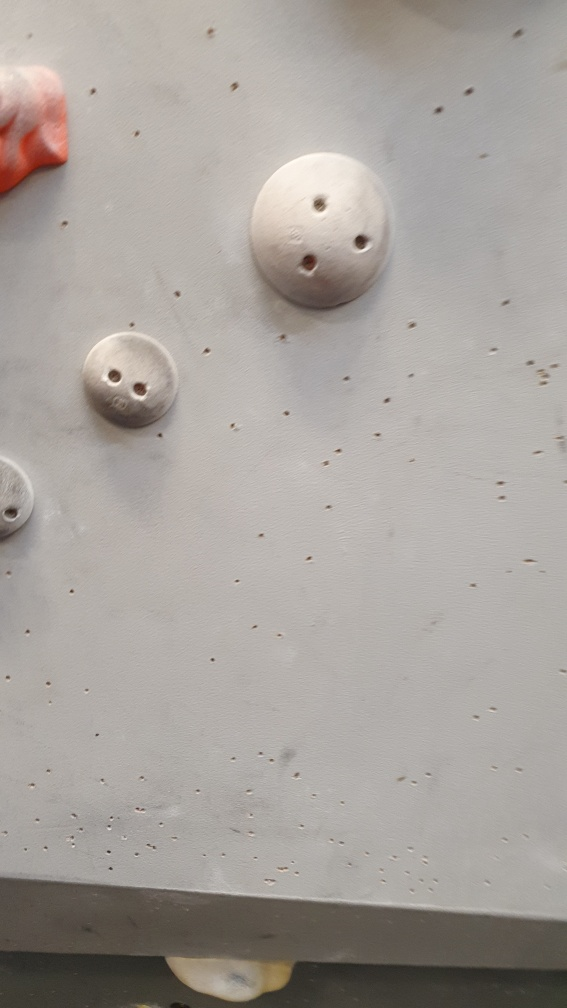Sloper: (247, 144, 391, 316), (80, 329, 180, 431)
